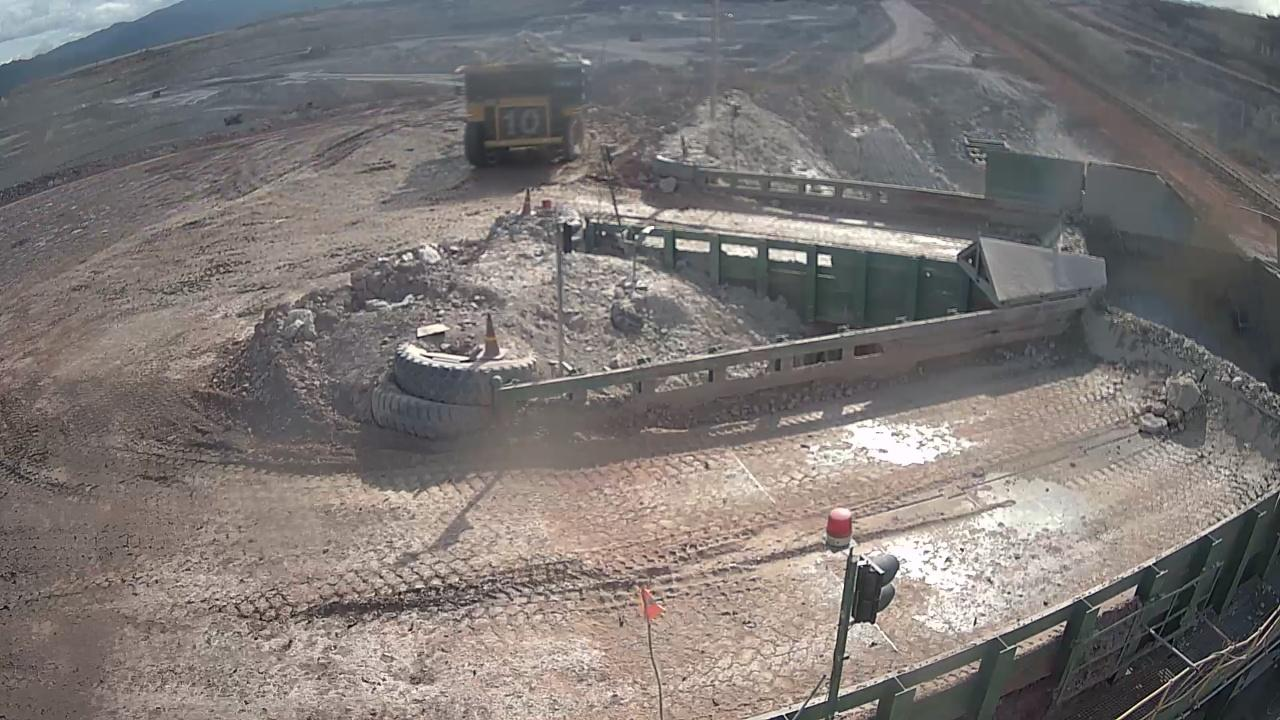front_number: (500, 104, 549, 141)
mining_truck: (455, 56, 589, 167)
